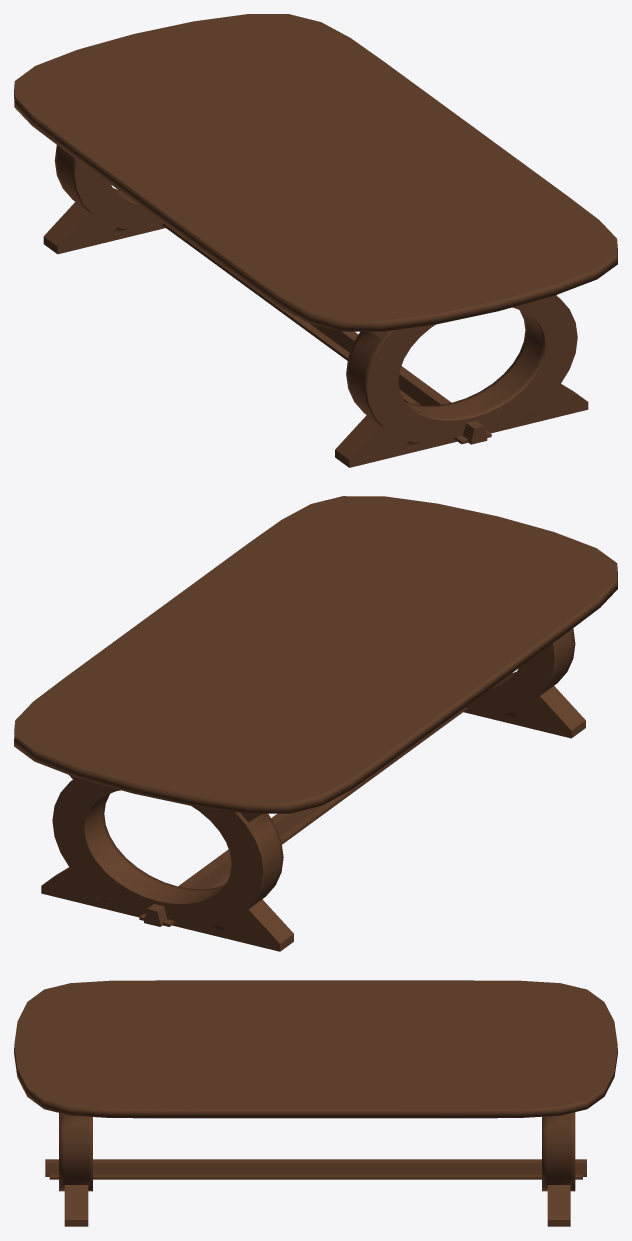
The model's file is WoodenTable.fbx.
The picture shows the model from 3 angles, top to bottom: view 1: azimuth 30°, elevation 25°; view 2: azimuth 150°, elevation 25°; view 3: azimuth 270°, elevation 25°; orthographic projection. The views are drawn at different scales.
Visible parts, largest first — view 1: BigWoodenTable; view 2: BigWoodenTable; view 3: BigWoodenTable.
Boxes of the visible parts, left/top/right/bottom form: BigWoodenTable: left=14, top=14, right=617, bottom=467; BigWoodenTable: left=14, top=496, right=617, bottom=951; BigWoodenTable: left=14, top=980, right=617, bottom=1226.
Size of the model in its own units: 117 by 55.88 by 230.
